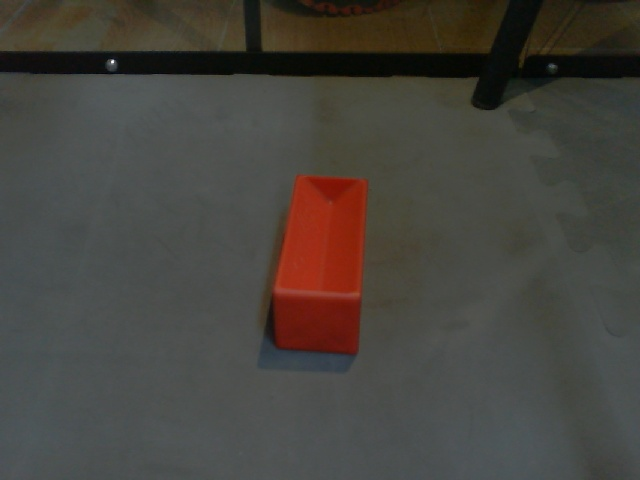RedSample: (267, 172, 367, 355)
